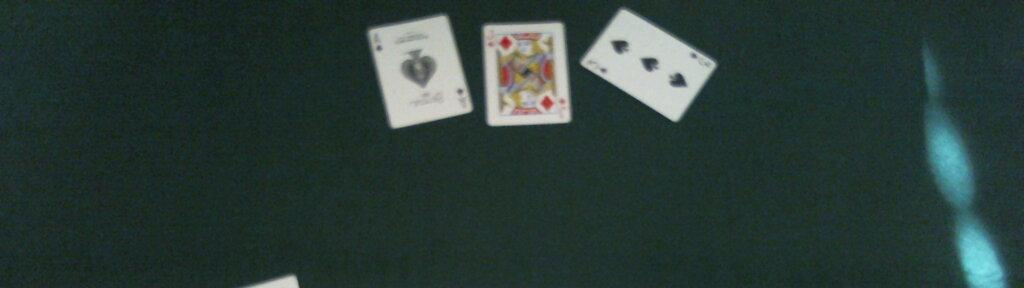ace: (365, 13, 474, 128)
jack: (480, 21, 572, 126)
three: (579, 7, 716, 121)
